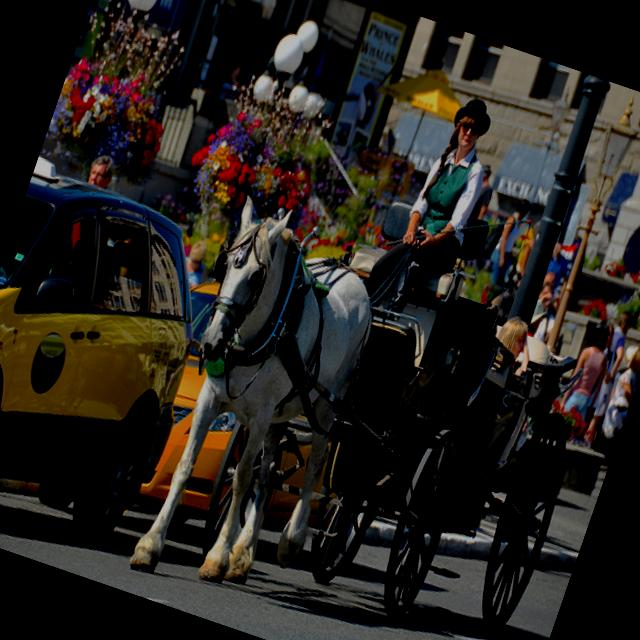Vehicle: (0, 151, 241, 570), (119, 278, 352, 565)
